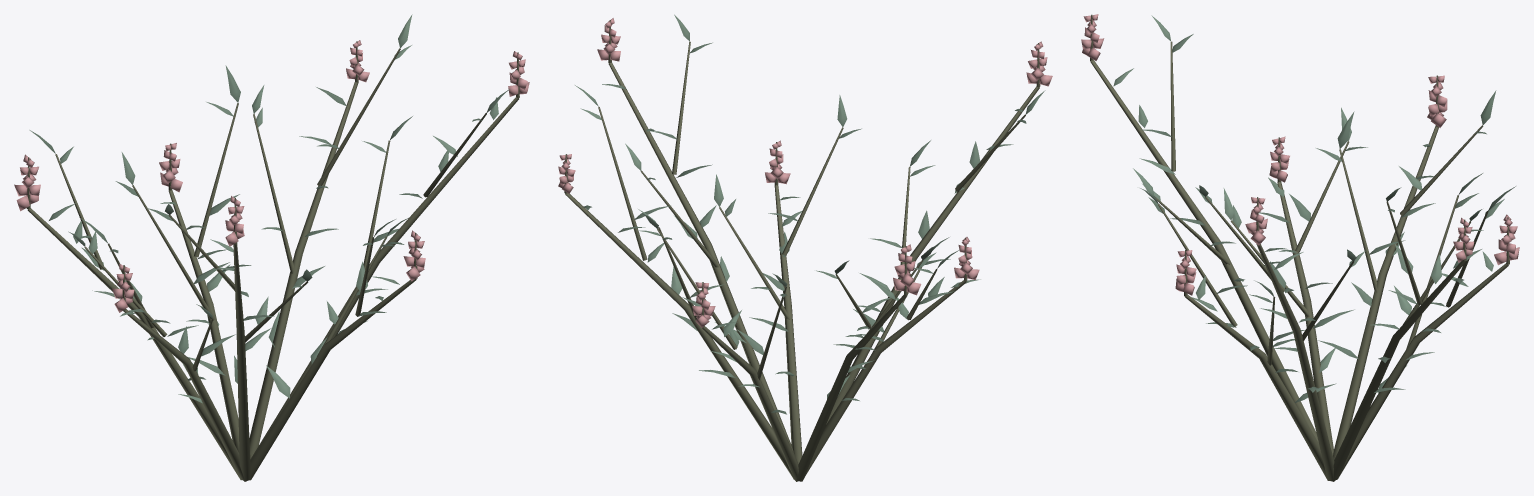
File: sweet_myricaria.glb
The picture shows the model from 3 angles, left to right: view 1: azimuth 30°, elevation 25°; view 2: azimuth 150°, elevation 25°; view 3: azimuth 270°, elevation 25°; orthographic projection. The views are drawn at different scales.
Visible parts, largest first — view 1: sweet_myricaria; view 2: sweet_myricaria; view 3: sweet_myricaria.
Boxes of the visible parts, box(x1,y1,x2,y2) form: sweet_myricaria: box(14, 14, 529, 481); sweet_myricaria: box(558, 14, 1052, 481); sweet_myricaria: box(1081, 14, 1519, 481).
Bounding box in the file's own units: 1.26 × 1.13 × 1.12.
